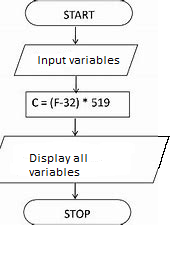arrow: (71, 74, 80, 93), (70, 180, 79, 199), (71, 25, 79, 46), (71, 117, 79, 136)
data: (1, 134, 171, 185), (12, 43, 140, 77)
process: (23, 88, 132, 120)
terminator: (22, 199, 133, 226), (23, 1, 135, 27)
text: (27, 152, 88, 177), (36, 55, 121, 67), (29, 96, 111, 108), (62, 9, 95, 19), (64, 208, 90, 220)
